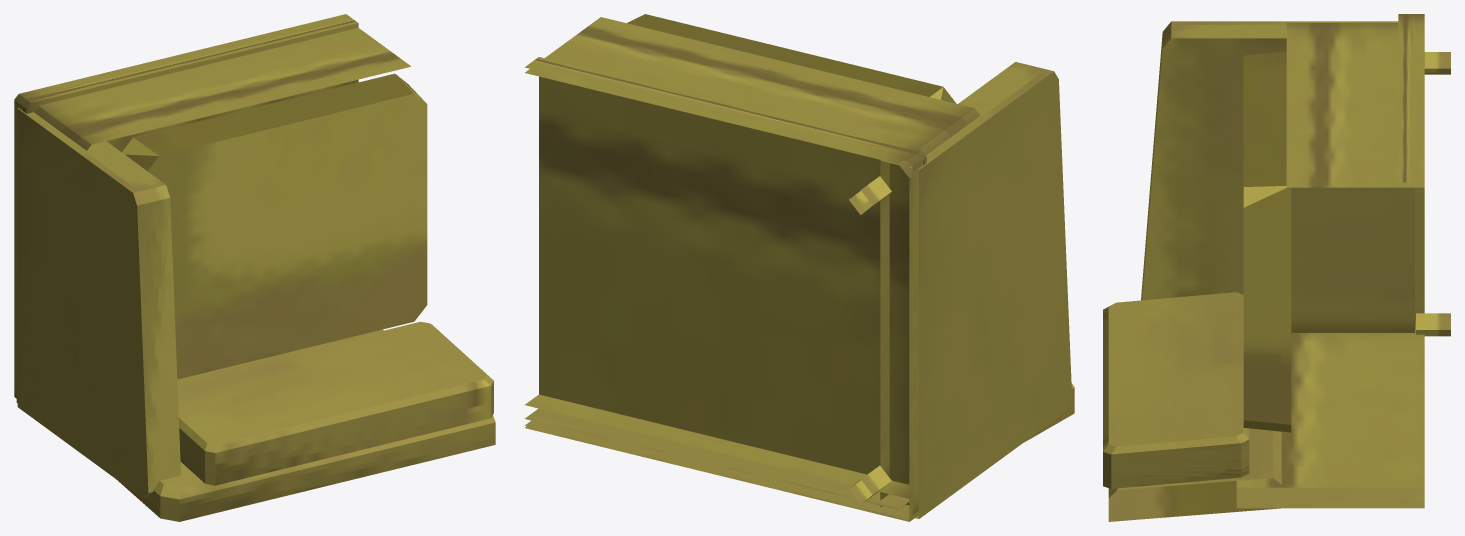
Rendered from pz_sofa_seating_indoor_03_yellow_modern_0_0_fidelity_r1.obj.
The picture shows the model from 3 angles, left to right: view 1: azimuth 30°, elevation 25°; view 2: azimuth 150°, elevation 25°; view 3: azimuth 270°, elevation 25°; orthographic projection. The views are drawn at different scales.
Parts seen in each view (by area): view 1: pz_sofa_seating_indoor_03_yellow_modern_0_0__seat_0__seat, pz_sofa_seating_indoor_03_yellow_modern_0_0__straight_arm_-1__ar, pz_sofa_seating_indoor_03_yellow_modern_0_0__back_cushion_0__bac, pz_sofa_seating_indoor_03_yellow_modern_0_0__lower_body__body, pz_sofa_seating_indoor_03_yellow_modern_0_0__rear_shell__back, pz_sofa_seating_indoor_03_yellow_modern_0_0__low_plinth__body; view 2: pz_sofa_seating_indoor_03_yellow_modern_0_0__low_plinth__body, pz_sofa_seating_indoor_03_yellow_modern_0_0__straight_arm_-1__ar, pz_sofa_seating_indoor_03_yellow_modern_0_0__lower_body__body, pz_sofa_seating_indoor_03_yellow_modern_0_0__rear_body_bridge__b, pz_sofa_seating_indoor_03_yellow_modern_0_0__seat_0__seat, pz_sofa_seating_indoor_03_yellow_modern_0_0__foot_-1_-1__frame, pz_sofa_seating_indoor_03_yellow_modern_0_0__foot_-1_1__frame; view 3: pz_sofa_seating_indoor_03_yellow_modern_0_0__straight_arm_-1__ar, pz_sofa_seating_indoor_03_yellow_modern_0_0__back_cushion_0__bac, pz_sofa_seating_indoor_03_yellow_modern_0_0__rear_body_bridge__b, pz_sofa_seating_indoor_03_yellow_modern_0_0__lower_body__body, pz_sofa_seating_indoor_03_yellow_modern_0_0__seat_0__seat, pz_sofa_seating_indoor_03_yellow_modern_0_0__rear_shell__back, pz_sofa_seating_indoor_03_yellow_modern_0_0__low_plinth__body, pz_sofa_seating_indoor_03_yellow_modern_0_0__foot_-1_-1__frame, pz_sofa_seating_indoor_03_yellow_modern_0_0__foot_-1_1__frame.
Boxes of the visible parts, bbox=[...] form: pz_sofa_seating_indoor_03_yellow_modern_0_0__seat_0__seat: bbox=[122, 73, 427, 379]; pz_sofa_seating_indoor_03_yellow_modern_0_0__straight_arm_-1__ar: bbox=[17, 108, 180, 498]; pz_sofa_seating_indoor_03_yellow_modern_0_0__back_cushion_0__bac: bbox=[177, 321, 493, 485]; pz_sofa_seating_indoor_03_yellow_modern_0_0__lower_body__body: bbox=[34, 28, 410, 150]; pz_sofa_seating_indoor_03_yellow_modern_0_0__rear_shell__back: bbox=[116, 415, 495, 521]; pz_sofa_seating_indoor_03_yellow_modern_0_0__low_plinth__body: bbox=[14, 14, 358, 399]; pz_sofa_seating_indoor_03_yellow_modern_0_0__low_plinth__body: bbox=[524, 57, 926, 518]; pz_sofa_seating_indoor_03_yellow_modern_0_0__straight_arm_-1__ar: bbox=[880, 62, 1071, 518]; pz_sofa_seating_indoor_03_yellow_modern_0_0__lower_body__body: bbox=[524, 17, 980, 509]; pz_sofa_seating_indoor_03_yellow_modern_0_0__rear_body_bridge__b: bbox=[525, 394, 918, 521]; pz_sofa_seating_indoor_03_yellow_modern_0_0__seat_0__seat: bbox=[627, 14, 956, 103]; pz_sofa_seating_indoor_03_yellow_modern_0_0__foot_-1_-1__frame: bbox=[849, 465, 891, 504]; pz_sofa_seating_indoor_03_yellow_modern_0_0__foot_-1_1__frame: bbox=[849, 176, 891, 214]; pz_sofa_seating_indoor_03_yellow_modern_0_0__straight_arm_-1__ar: bbox=[1141, 21, 1414, 332]; pz_sofa_seating_indoor_03_yellow_modern_0_0__back_cushion_0__bac: bbox=[1103, 292, 1249, 488]; pz_sofa_seating_indoor_03_yellow_modern_0_0__rear_body_bridge__b: bbox=[1236, 318, 1424, 508]; pz_sofa_seating_indoor_03_yellow_modern_0_0__lower_body__body: bbox=[1286, 23, 1424, 499]; pz_sofa_seating_indoor_03_yellow_modern_0_0__seat_0__seat: bbox=[1243, 51, 1291, 432]; pz_sofa_seating_indoor_03_yellow_modern_0_0__rear_shell__back: bbox=[1108, 428, 1281, 521]; pz_sofa_seating_indoor_03_yellow_modern_0_0__low_plinth__body: bbox=[1398, 14, 1424, 506]; pz_sofa_seating_indoor_03_yellow_modern_0_0__foot_-1_-1__frame: bbox=[1416, 313, 1450, 336]; pz_sofa_seating_indoor_03_yellow_modern_0_0__foot_-1_1__frame: bbox=[1424, 52, 1450, 74].
Bounding box in the file's own units: 0.8461 × 0.7799 × 0.7245.
Materials: 1 (1 with a texture image).
